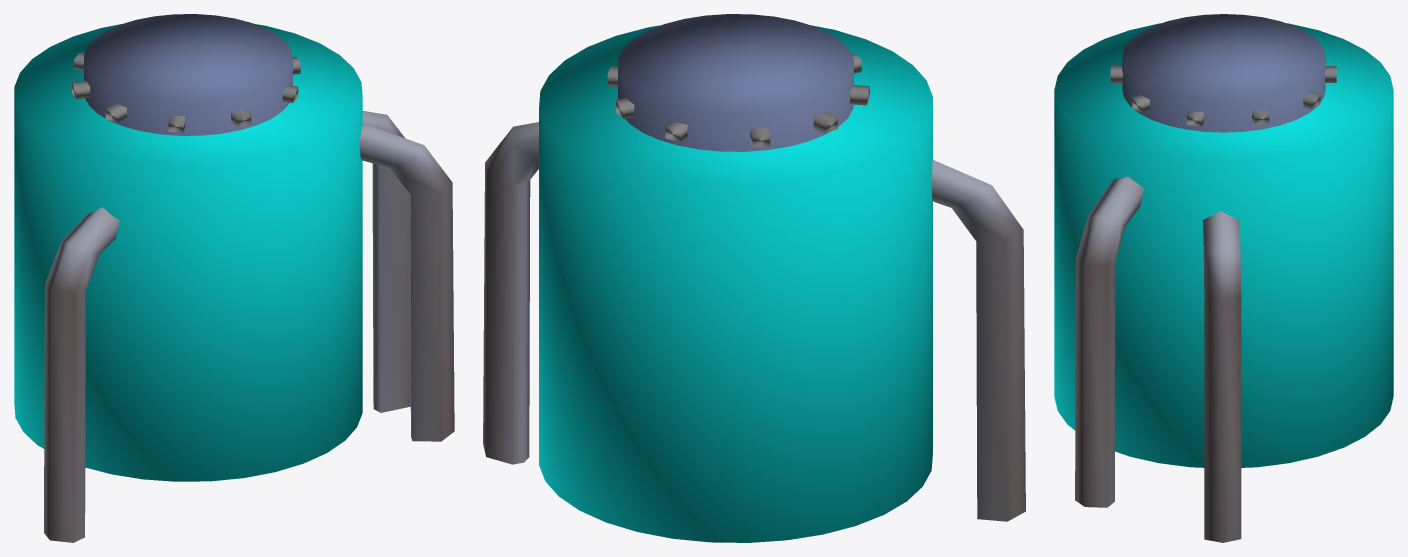
File: Liquide bunker.fbx
3 renders of one model, left to right at view 1: azimuth 30°, elevation 25°; view 2: azimuth 150°, elevation 25°; view 3: azimuth 270°, elevation 25°, orthographic. The views are drawn at different scales.
Visible parts, largest first — view 1: PM3D_Plane3D193_036; view 2: PM3D_Plane3D193_036; view 3: PM3D_Plane3D193_036.
Boxes of the visible parts, box(x1,y1,x2,y2) form: PM3D_Plane3D193_036: box(14, 14, 454, 542); PM3D_Plane3D193_036: box(483, 14, 1025, 542); PM3D_Plane3D193_036: box(1054, 14, 1393, 542).
Bounding box in the file's own units: 451 × 406 × 323.
